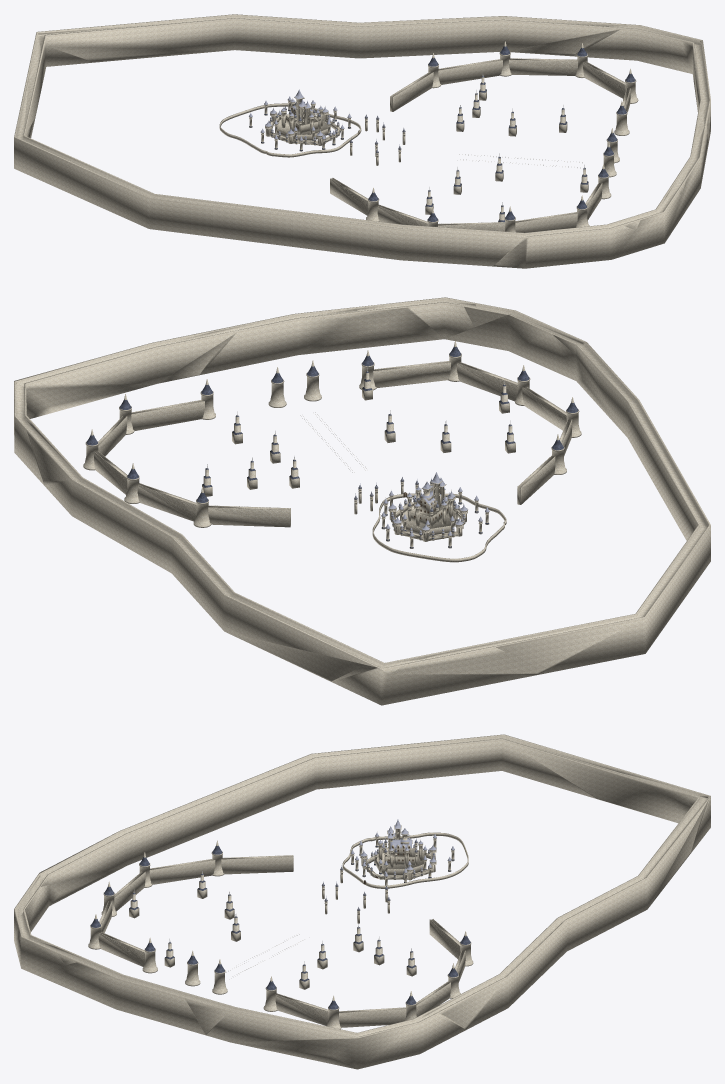
Rendered from City_Castle.fbx.
3 renders of one model, top to bottom at view 1: azimuth 30°, elevation 25°; view 2: azimuth 150°, elevation 25°; view 3: azimuth 270°, elevation 25°, orthographic. The views are drawn at different scales.
Visible parts, largest first — view 1: Castle_cm1_p0_LOD0, Castle_cm2_p0_LOD0, Castle_cm1_m2_LOD0, Castle_cp0_m3_LOD0, Castle_cp1_p1_LOD0, Castle_cp1_p0_LOD0, Castle_cp0_p1_LOD0, Castle_cp2_p0_LOD0, Castle_cp1_m2_LOD0, Castle_cm2_m1_LOD0, Castle_cp1_m1_LOD0; view 2: Castle_cm1_p0_LOD0, Castle_cp0_m3_LOD0, Castle_cm2_p0_LOD0, Castle_cm1_m2_LOD0, Castle_cp0_p1_LOD0, Castle_cp2_m1_LOD0, Castle_cp1_p1_LOD0, Castle_cp1_m2_LOD0, Castle_cp2_p0_LOD0, Castle_cp1_p0_LOD0, Castle_cm2_m1_LOD0, Castle_cp1_m1_LOD0; view 3: Castle_cm1_p0_LOD0, Castle_cm1_m2_LOD0, Castle_cm2_p0_LOD0, Castle_cp0_m3_LOD0, Castle_cp2_p0_LOD0, Castle_cm2_m1_LOD0, Castle_cp2_m1_LOD0, Castle_cp1_m2_LOD0, Castle_cp0_p1_LOD0, Castle_cp1_p0_LOD0, Castle_cp1_m1_LOD0.
Boxes of the visible parts, x1=… form: Castle_cm1_p0_LOD0: x1=14, y1=14, x2=710, y2=268; Castle_cm2_p0_LOD0: x1=219, y1=103, x2=361, y2=157; Castle_cm1_m2_LOD0: x1=377, y1=167, x2=504, y2=231; Castle_cp0_m3_LOD0: x1=515, y1=182, x2=602, y2=232; Castle_cp1_p1_LOD0: x1=438, y1=41, x2=511, y2=84; Castle_cp1_p0_LOD0: x1=479, y1=58, x2=577, y2=100; Castle_cp0_p1_LOD0: x1=390, y1=53, x2=441, y2=111; Castle_cp2_p0_LOD0: x1=575, y1=43, x2=625, y2=98; Castle_cp1_m2_LOD0: x1=562, y1=128, x2=619, y2=199; Castle_cm2_m1_LOD0: x1=330, y1=178, x2=368, y2=215; Castle_cp1_m1_LOD0: x1=555, y1=101, x2=629, y2=161; Castle_cm1_p0_LOD0: x1=14, y1=297, x2=710, y2=705; Castle_cp0_m3_LOD0: x1=373, y1=341, x2=517, y2=401; Castle_cm2_p0_LOD0: x1=372, y1=492, x2=506, y2=562; Castle_cm1_m2_LOD0: x1=440, y1=381, x2=581, y2=455; Castle_cp0_p1_LOD0: x1=193, y1=487, x2=290, y2=527; Castle_cp2_m1_LOD0: x1=119, y1=394, x2=204, y2=434; Castle_cp1_p1_LOD0: x1=124, y1=463, x2=196, y2=521; Castle_cp1_m2_LOD0: x1=268, y1=350, x2=376, y2=421; Castle_cp2_p0_LOD0: x1=83, y1=416, x2=127, y2=470; Castle_cp1_p0_LOD0: x1=94, y1=451, x2=212, y2=496; Castle_cm2_m1_LOD0: x1=517, y1=455, x2=555, y2=504; Castle_cp1_m1_LOD0: x1=200, y1=379, x2=313, y2=444; Castle_cm1_p0_LOD0: x1=14, y1=734, x2=710, y2=1069; Castle_cm1_m2_LOD0: x1=114, y1=852, x2=234, y2=919; Castle_cm2_p0_LOD0: x1=342, y1=831, x2=468, y2=888; Castle_cp0_m3_LOD0: x1=88, y1=901, x2=144, y2=966; Castle_cp2_p0_LOD0: x1=339, y1=991, x2=416, y2=1027; Castle_cm2_m1_LOD0: x1=221, y1=855, x2=293, y2=874; Castle_cp2_m1_LOD0: x1=275, y1=993, x2=341, y2=1029; Castle_cp1_m2_LOD0: x1=142, y1=937, x2=230, y2=994; Castle_cp0_p1_LOD0: x1=429, y1=919, x2=473, y2=966; Castle_cp1_p0_LOD0: x1=406, y1=948, x2=450, y2=1016; Castle_cp1_m1_LOD0: x1=238, y1=961, x2=309, y2=1011.
Size of what is drawn, in the model's own units: 324 by 31.27 by 315.
Materials: 6 (4 with a texture image).
